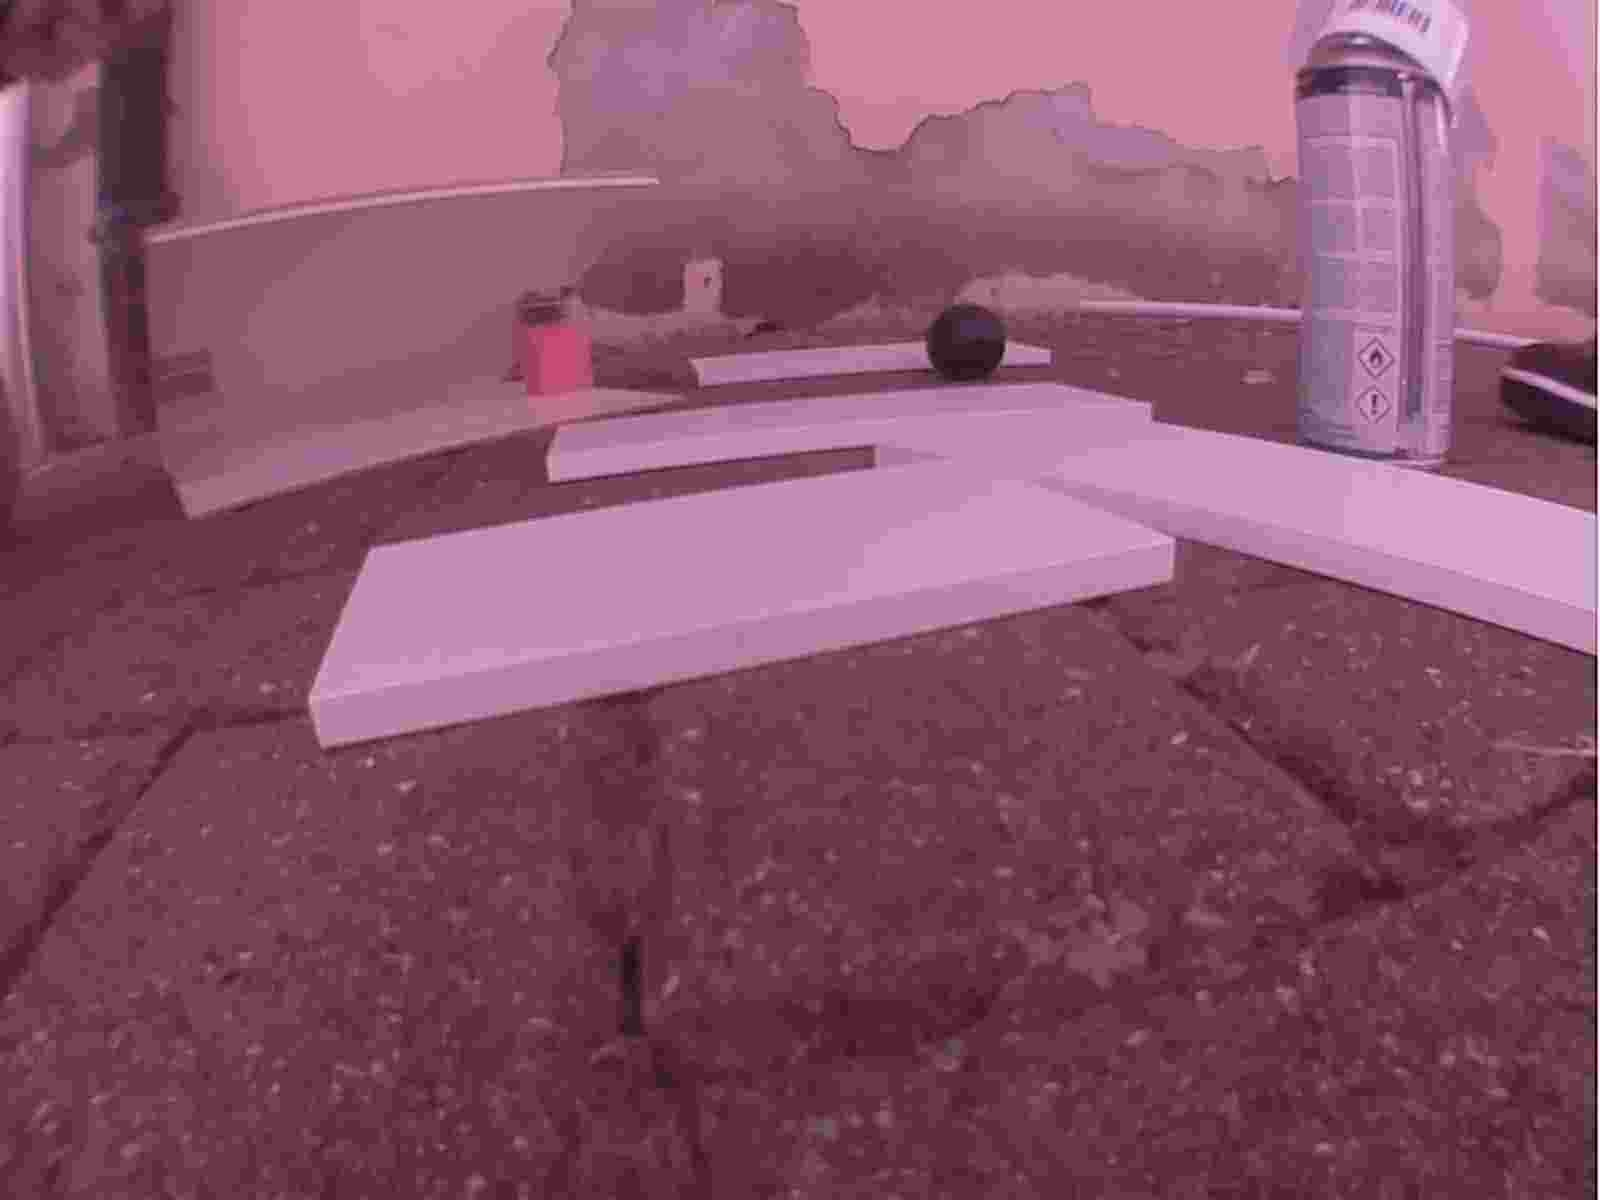nera: (920, 303, 1010, 379)
